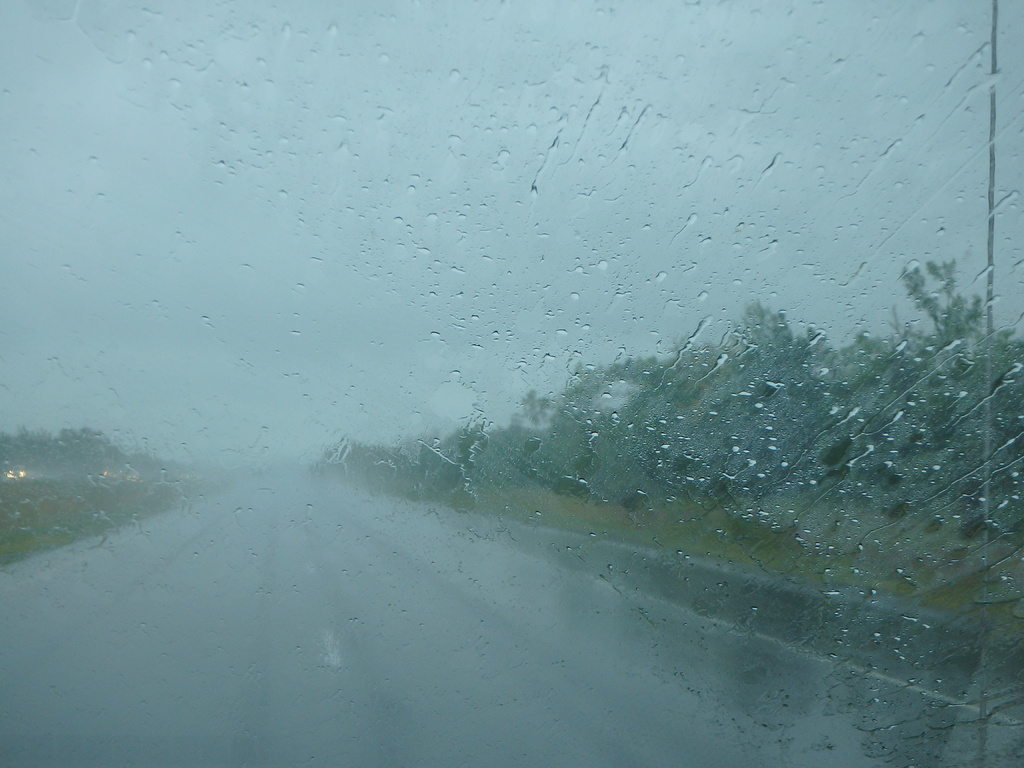Tree: (423, 257, 1024, 558)
